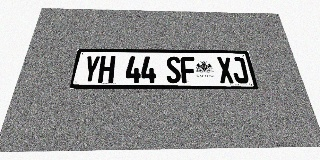4: (125, 56, 141, 83), (141, 56, 156, 83)
F: (180, 57, 197, 83)
H: (98, 56, 116, 83)
J: (230, 57, 250, 83)
S: (166, 56, 181, 83)
X: (216, 57, 235, 83)
Y: (81, 56, 101, 83)
